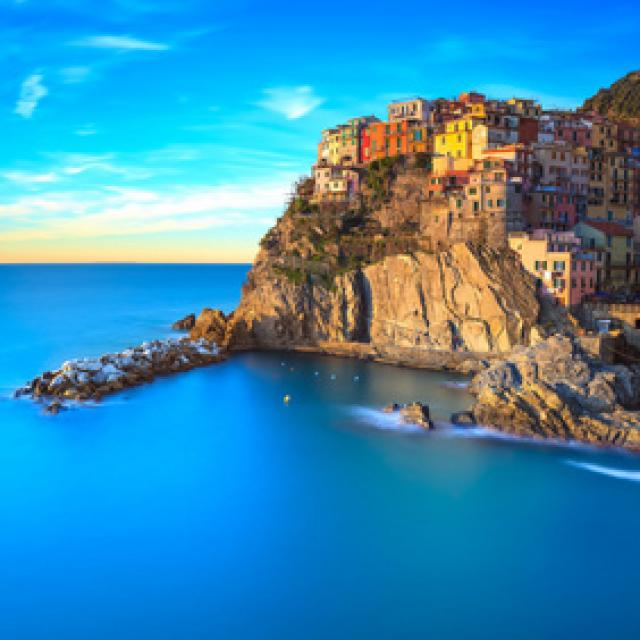reef: (8, 256, 255, 428)
